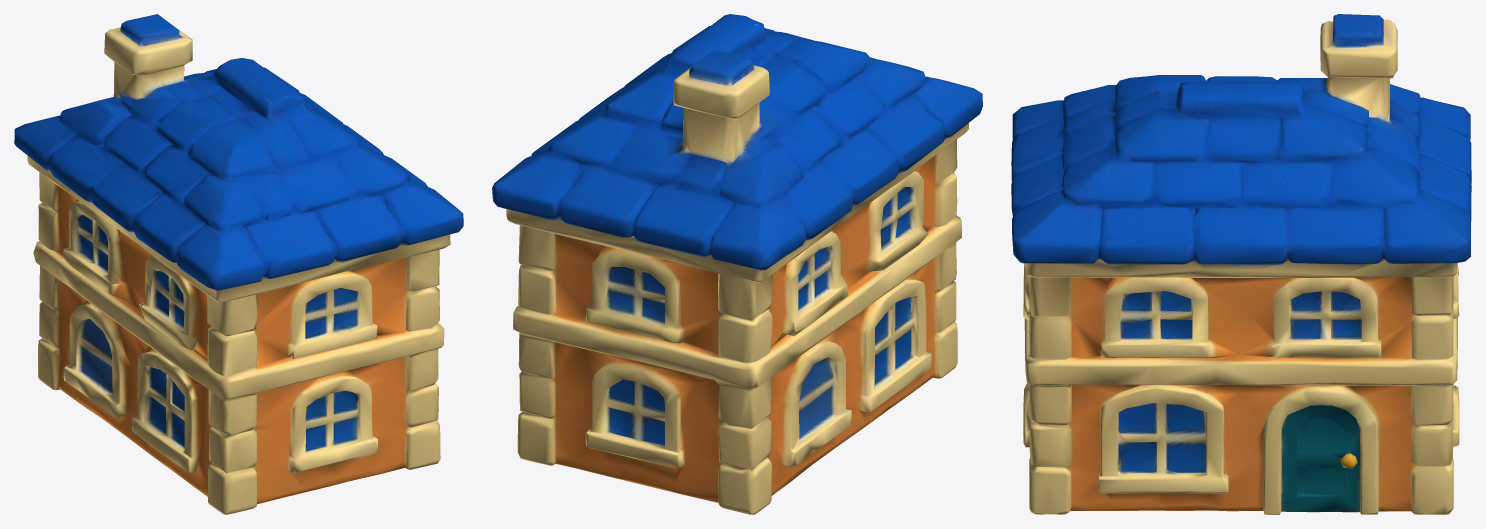
Rendered from house-b.glb.
The picture shows the model from 3 angles, left to right: view 1: azimuth 30°, elevation 25°; view 2: azimuth 150°, elevation 25°; view 3: azimuth 270°, elevation 25°; orthographic projection. The views are drawn at different scales.
Visible parts, largest first — view 1: tripo_node_2f26afe2-17d2-4e34-8224-d79090d19640; view 2: tripo_node_2f26afe2-17d2-4e34-8224-d79090d19640; view 3: tripo_node_2f26afe2-17d2-4e34-8224-d79090d19640.
Boxes of the visible parts, x1=… form: tripo_node_2f26afe2-17d2-4e34-8224-d79090d19640: x1=14, y1=14, x2=463, y2=514; tripo_node_2f26afe2-17d2-4e34-8224-d79090d19640: x1=492, y1=14, x2=982, y2=514; tripo_node_2f26afe2-17d2-4e34-8224-d79090d19640: x1=1011, y1=14, x2=1471, y2=514.
Bounding box in the file's own units: 0.7275 × 0.9925 × 1.
Materials: 1 (1 with a texture image).
